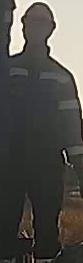gloves: (68, 153, 83, 198)
helmet: (20, 0, 57, 31)
vest: (7, 57, 72, 189)
